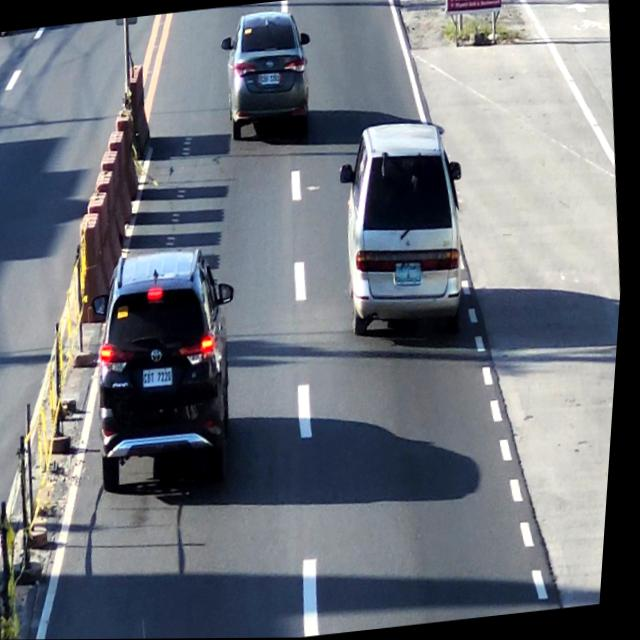Car: (89, 243, 251, 491), (333, 114, 482, 344), (215, 6, 322, 144)
License-Plate: (395, 258, 429, 286), (146, 365, 180, 389), (259, 69, 282, 88)
